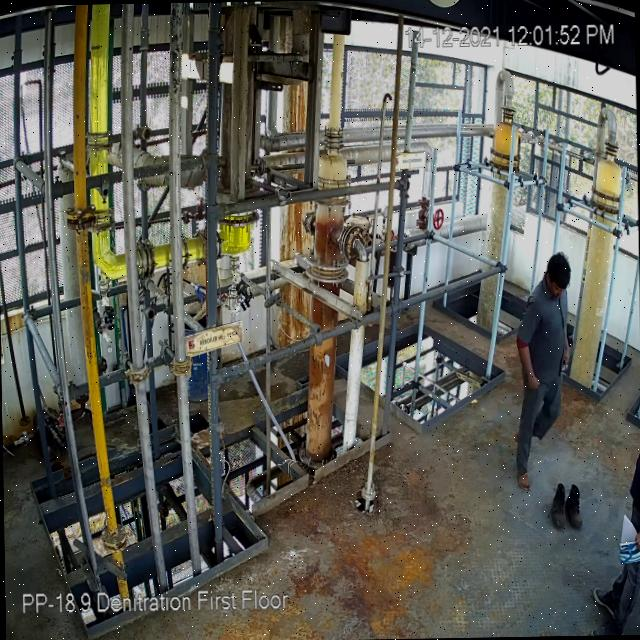boots: (563, 481, 587, 536), (546, 482, 567, 528)
no-boots: (512, 461, 532, 490)
